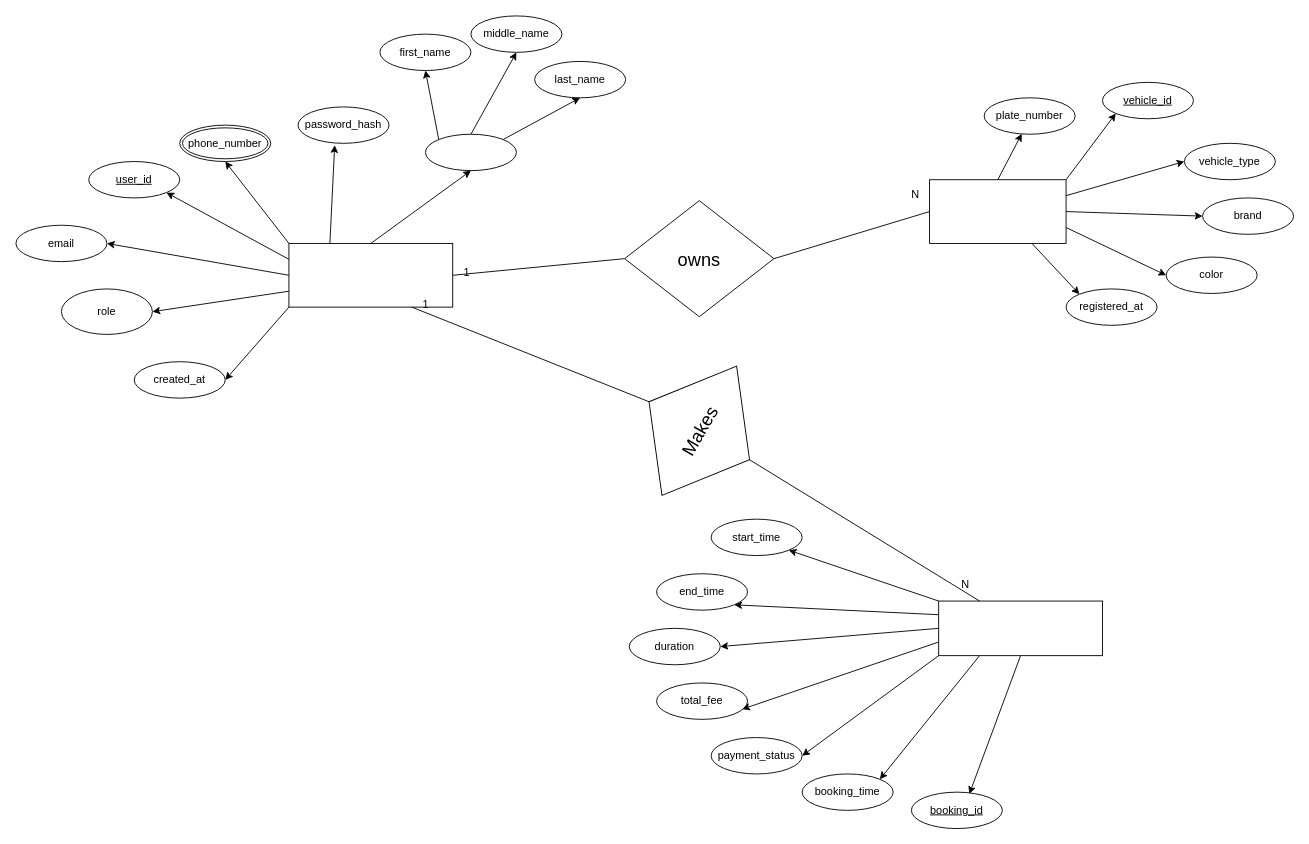
This 1309x844 diagram has some shape labels left out. Each missing label, with the box of its shape:
BOOKING: (938, 600, 1102, 656)
full_name: (425, 133, 516, 171)
USER: (288, 243, 453, 307)
VEHICLES: (929, 179, 1066, 243)
